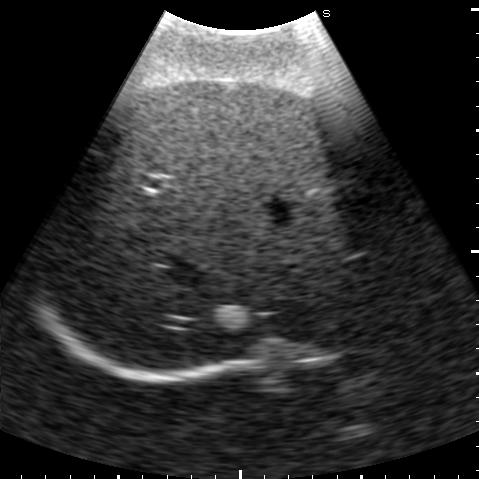S5: (125, 81, 342, 198)
S7: (46, 171, 178, 318)
S8: (117, 190, 383, 371)
Tumor: (214, 303, 250, 332)
